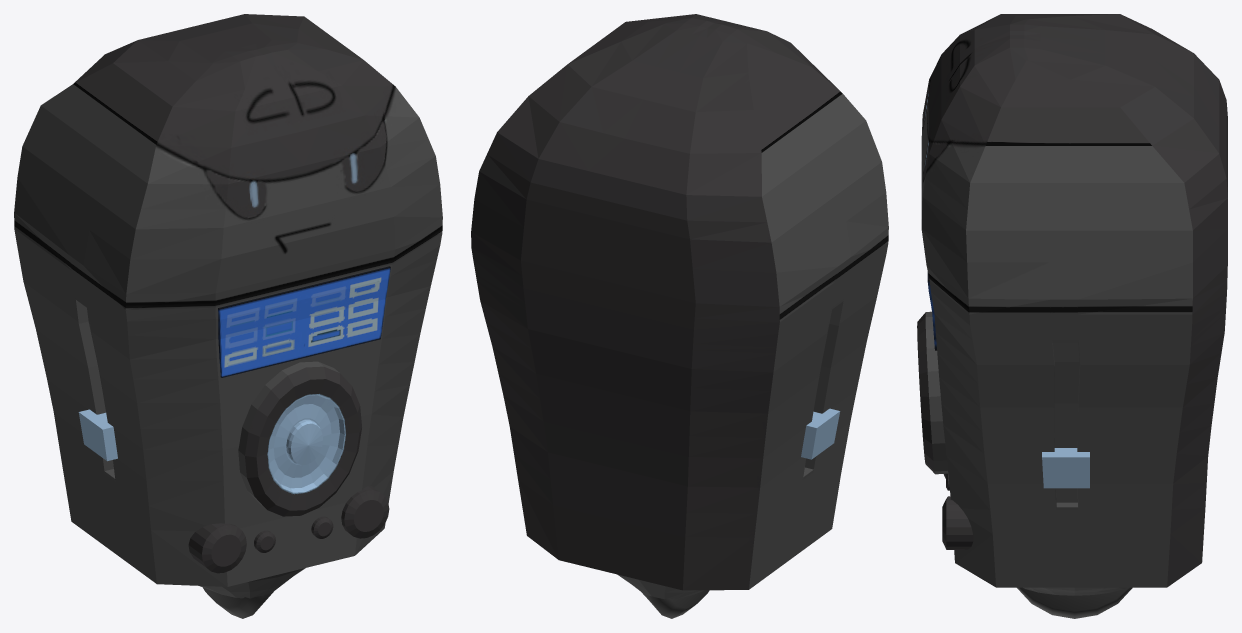
The model's file is torretta_grigio_scuro.fbx.
3 views of the same model, side by side, from view 1: azimuth 30°, elevation 25°; view 2: azimuth 150°, elevation 25°; view 3: azimuth 270°, elevation 25° (orthographic). The views are drawn at different scales.
Parts seen in each view (by area): view 1: torretta_corpo6, ruota3; view 2: torretta_corpo6, ruota3; view 3: torretta_corpo6, ruota3.
Part boxes in pixels (left/top/right/bottom): torretta_corpo6: left=14, top=14, right=442, bottom=598; ruota3: left=203, top=587, right=273, bottom=618; torretta_corpo6: left=471, top=14, right=888, bottom=599; ruota3: left=641, top=590, right=709, bottom=618; torretta_corpo6: left=917, top=14, right=1227, bottom=595; ruota3: left=1017, top=587, right=1132, bottom=618.
Size of the model in its own units: 83.35 by 145 by 69.78.
